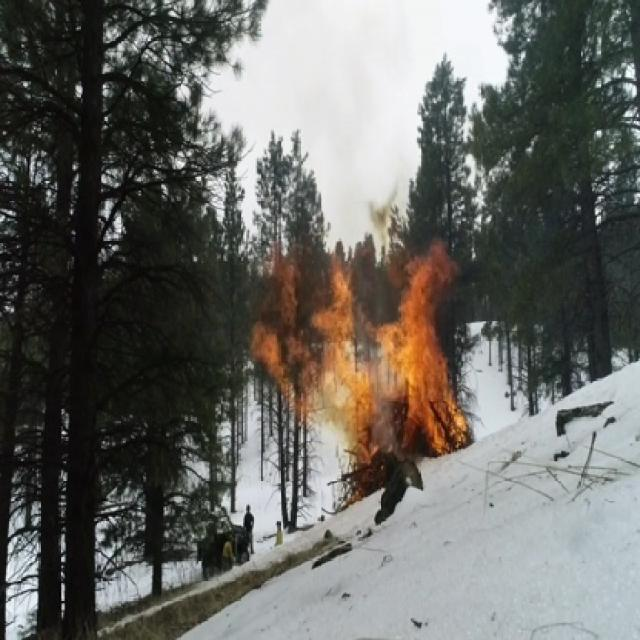Fire: (248, 230, 477, 498)
